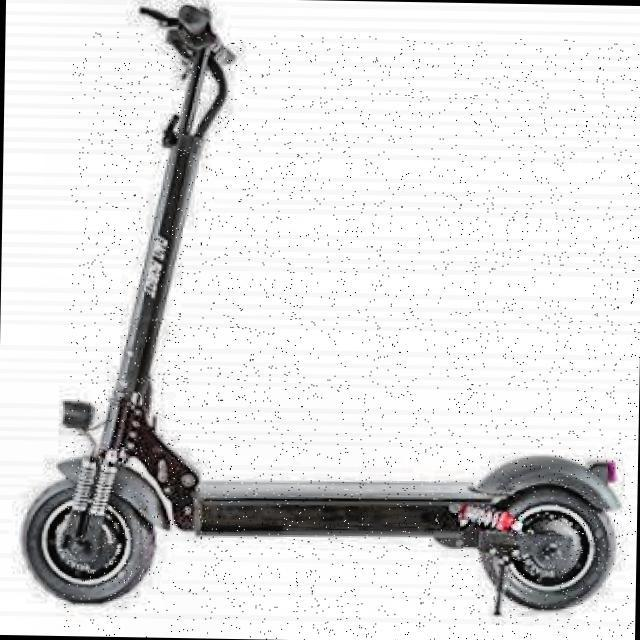bike: (19, 3, 628, 607)
